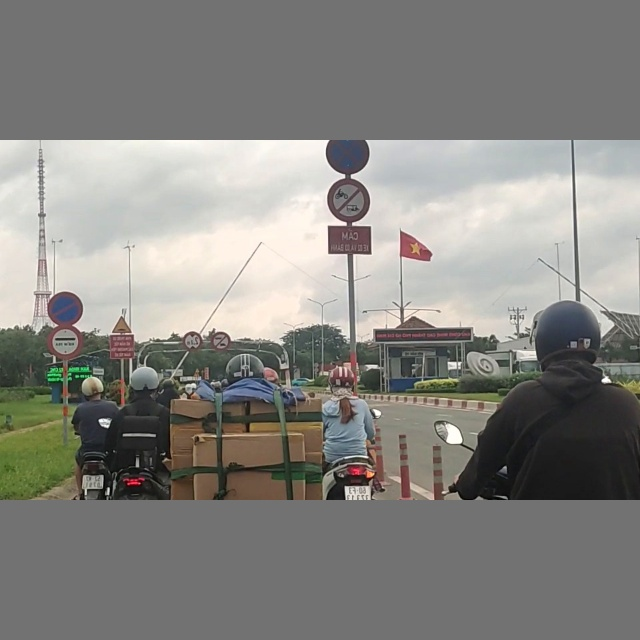P.107: (212, 332, 230, 350)
P.111: (328, 177, 369, 223)
P.117*: (183, 331, 202, 351)
P.129: (47, 326, 83, 359)
P.130: (325, 141, 369, 174)
P.131a: (47, 291, 83, 324)
W.221b: (112, 315, 132, 333)
